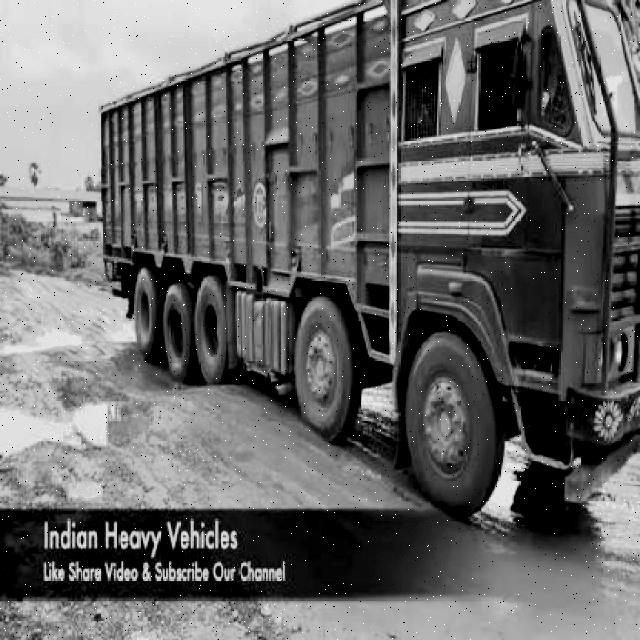HCV: (78, 54, 640, 471)
